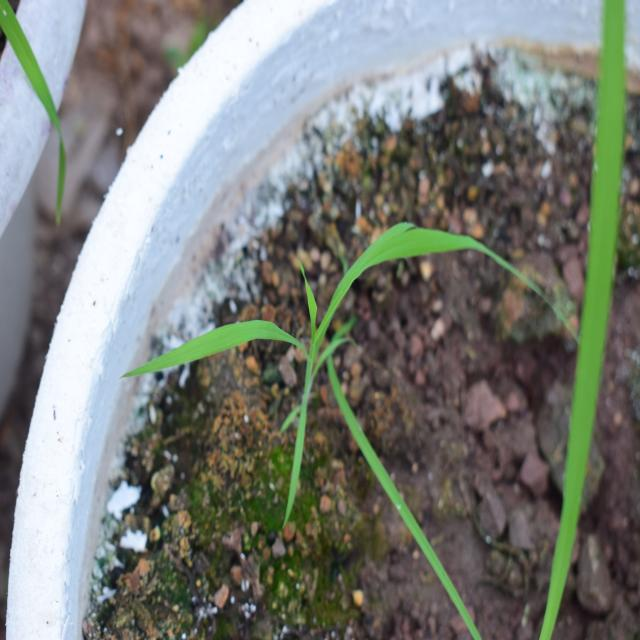barnyard_grass: (148, 160, 502, 487)
